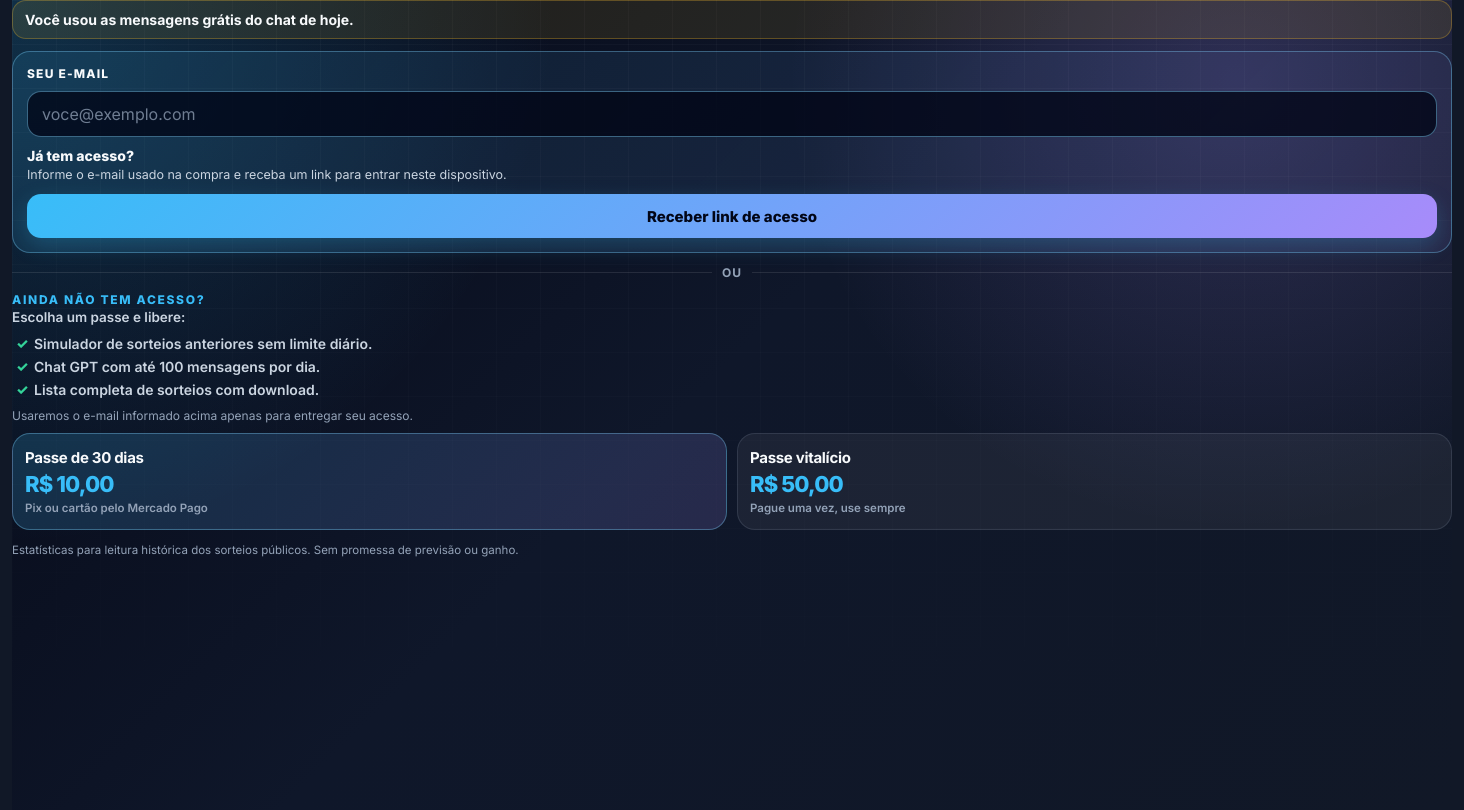
Scenario: PaywallDialog › requests an access link and shows the generic confirmation
In the field labelled "Seu e-mail": (732,114) [27,91,1437,137], type "user@example.com"
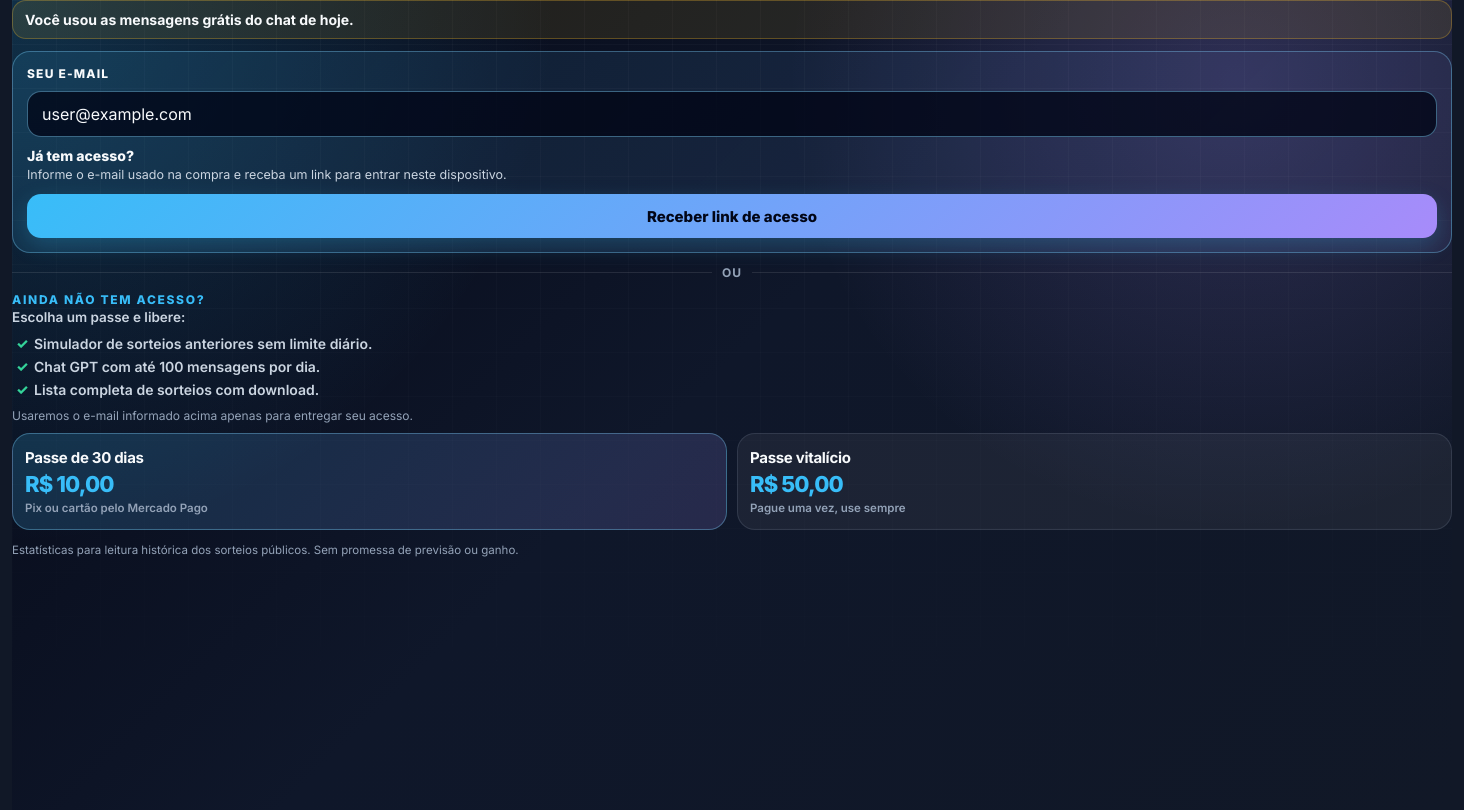
Click the button "Receber link de acesso": (732,216) [27,194,1437,238]
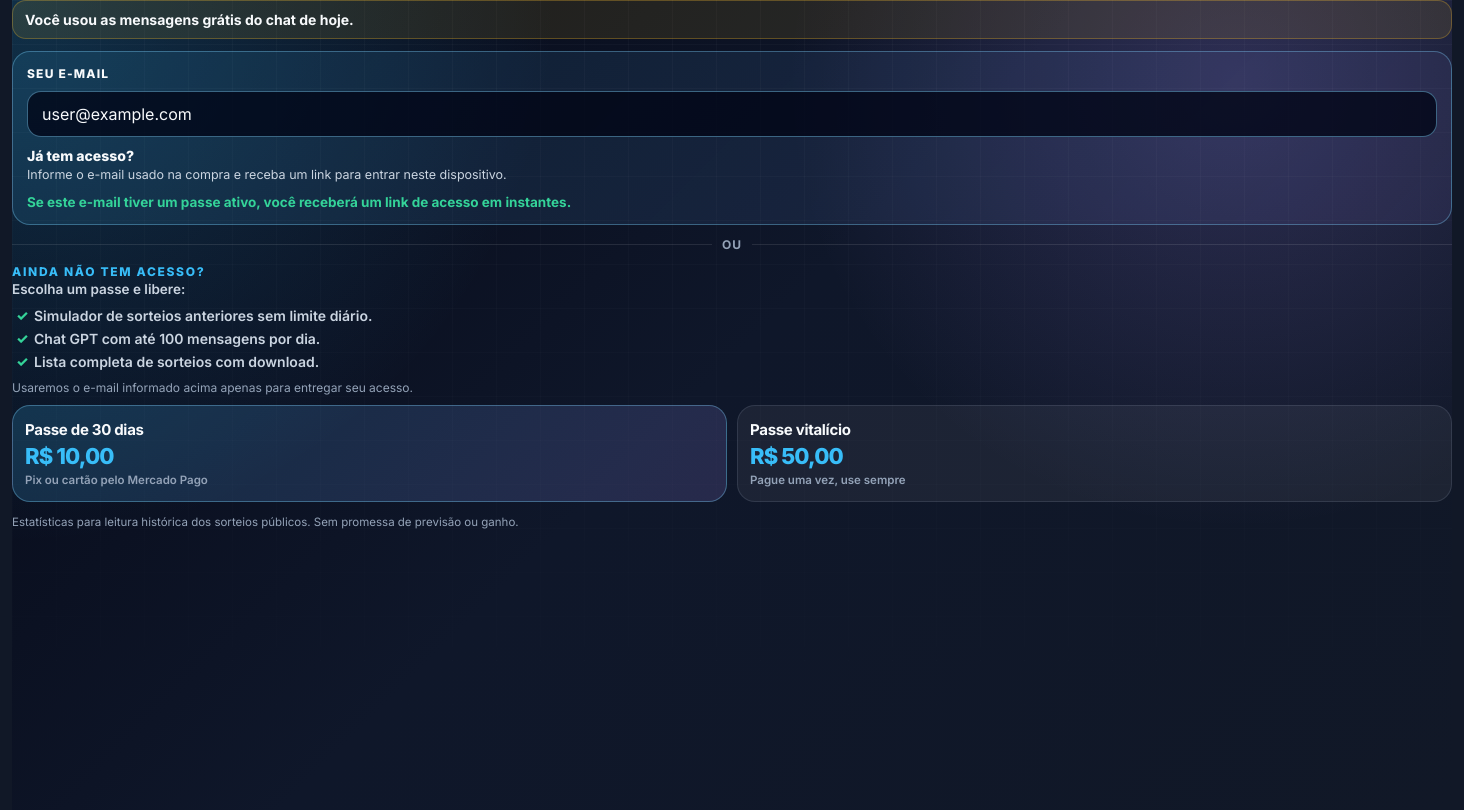
Check: the message shows "receberá um link de acesso", box [27,194,571,210]
